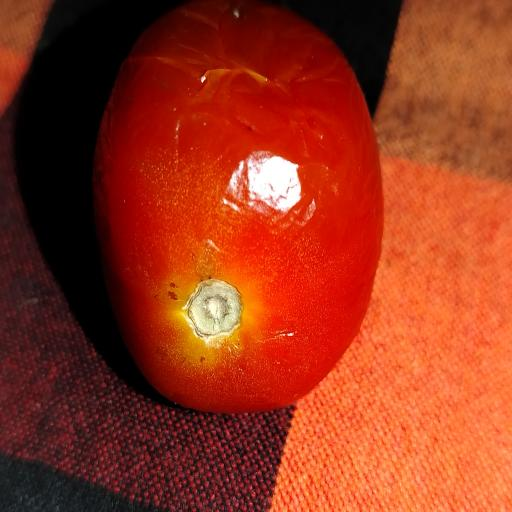spoiled: (93, 0, 383, 412)
